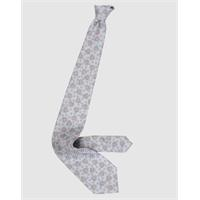tie: (52, 6, 132, 194)
